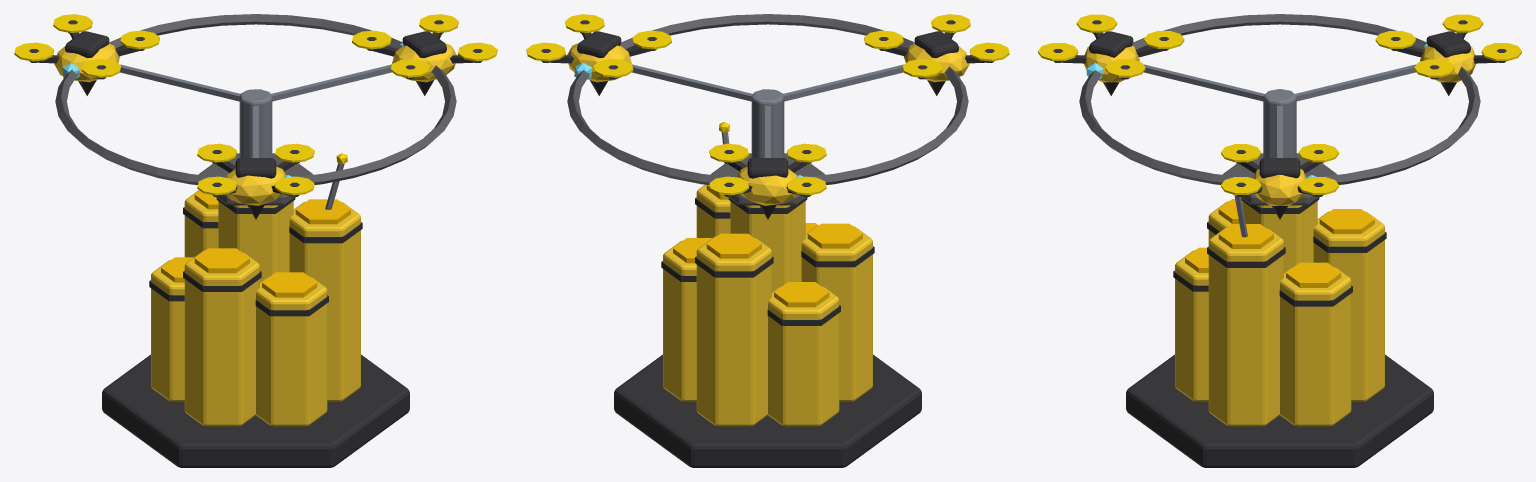
Rendered from torreta_colmena.obj.
3 renders of one model, left to right at view 1: azimuth 30°, elevation 25°; view 2: azimuth 150°, elevation 25°; view 3: azimuth 270°, elevation 25°, orthographic.
Visible parts, largest first — view 1: Base, Pivot; view 2: Base, Pivot; view 3: Base, Pivot.
Boxes of the visible parts, bbox=[...] form: Base: bbox=[102, 153, 409, 467]; Pivot: bbox=[14, 14, 497, 219]; Base: bbox=[614, 122, 921, 467]; Pivot: bbox=[526, 14, 1009, 219]; Base: bbox=[1126, 153, 1433, 467]; Pivot: bbox=[1038, 14, 1521, 219].
Bounding box in the file's own units: 4.24 × 3.43 × 4.53.
Materials: 1 (1 with a texture image).
